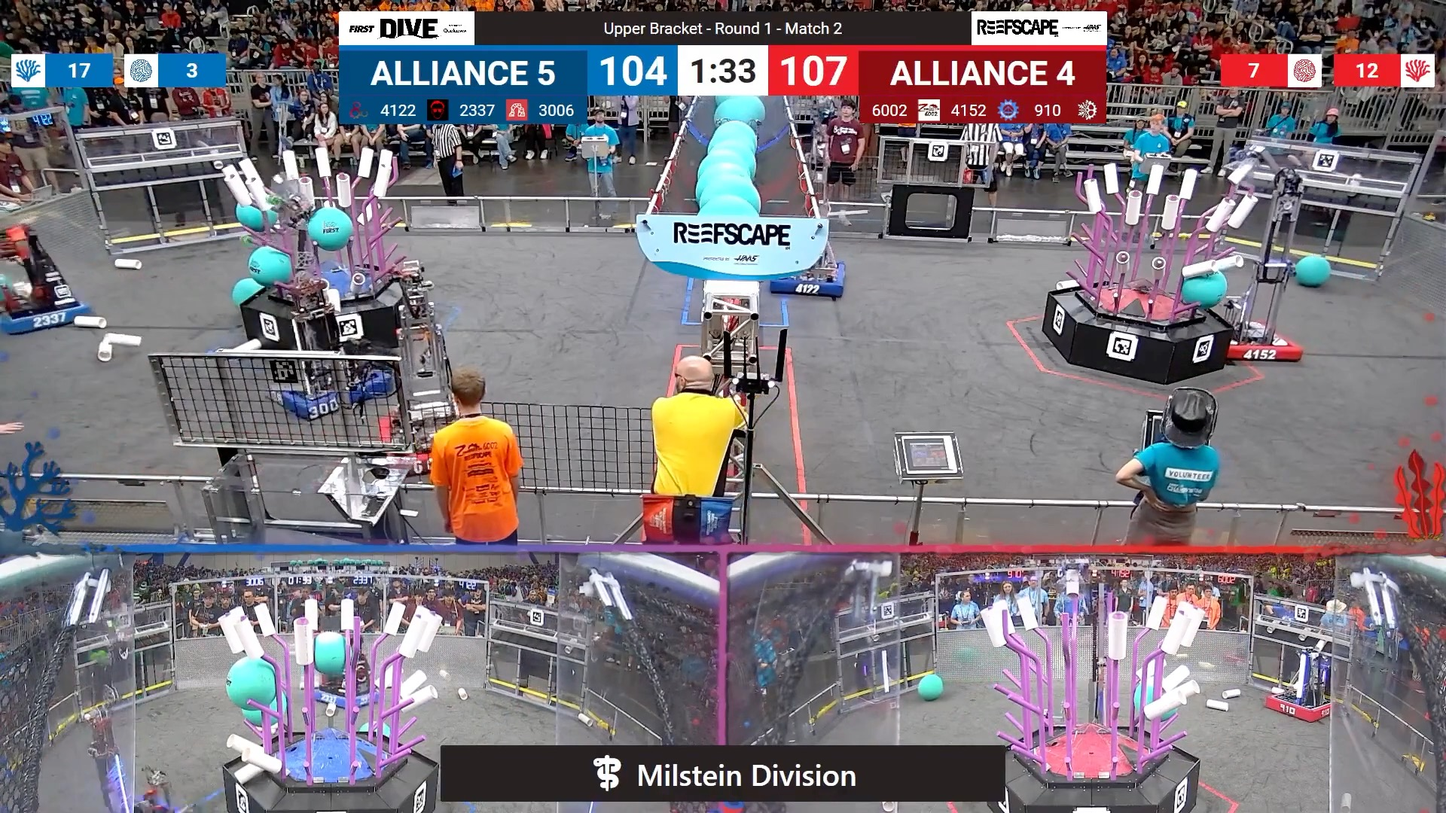bumpers: (264, 375, 397, 422), (0, 284, 92, 343), (1217, 319, 1307, 369), (769, 263, 852, 300), (305, 678, 399, 709), (1257, 692, 1344, 725)
